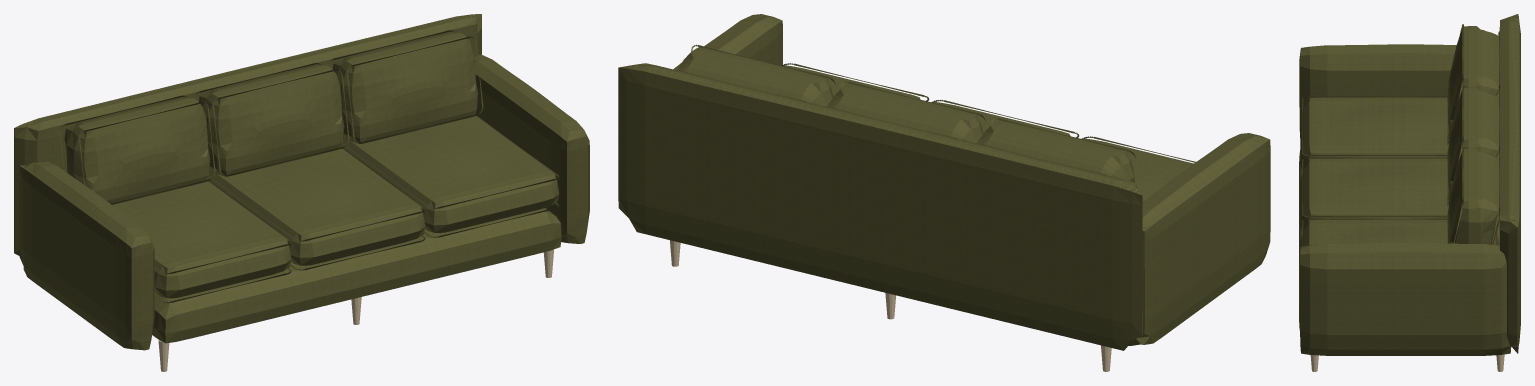
The model's file is ATL-SOF-3-seat.glb.
The picture shows the model from 3 angles, left to right: view 1: azimuth 30°, elevation 25°; view 2: azimuth 150°, elevation 25°; view 3: azimuth 270°, elevation 25°; orthographic projection. The views are drawn at different scales.
Visible parts, largest first — view 1: deck:fabric:eyJwcmVzZXQiOiJoZXJyaW5nYm9uZSIsIndhcnAiOiJvbGl2, arm-pad-l:fabric:eyJwcmVzZXQiOiJoZXJyaW5nYm9uZSIsIndhcnAiOiJ, seat-3:fabric:eyJwcmVzZXQiOiJoZXJyaW5nYm9uZSIsIndhcnAiOiJvbG, seat-2:fabric:eyJwcmVzZXQiOiJoZXJyaW5nYm9uZSIsIndhcnAiOiJvbG, seat-1:fabric:eyJwcmVzZXQiOiJoZXJyaW5nYm9uZSIsIndhcnAiOiJvbG, back-2:fabric:eyJwcmVzZXQiOiJoZXJyaW5nYm9uZSIsIndhcnAiOiJvbG, back-3:fabric:eyJwcmVzZXQiOiJoZXJyaW5nYm9uZSIsIndhcnAiOiJvbG, back-1:fabric:eyJwcmVzZXQiOiJoZXJyaW5nYm9uZSIsIndhcnAiOiJvbG, back-pad:fabric:eyJwcmVzZXQiOiJoZXJyaW5nYm9uZSIsIndhcnAiOiJv, arm-pad-r:fabric:eyJwcmVzZXQiOiJoZXJyaW5nYm9uZSIsIndhcnAiOiJ, back-2:piping:pbr, back-3:piping:pbr (+4 smaller); view 2: back-pad:fabric:eyJwcmVzZXQiOiJoZXJyaW5nYm9uZSIsIndhcnAiOiJv, arm-pad-l:fabric:eyJwcmVzZXQiOiJoZXJyaW5nYm9uZSIsIndhcnAiOiJ, back-1:fabric:eyJwcmVzZXQiOiJoZXJyaW5nYm9uZSIsIndhcnAiOiJvbG, back-2:fabric:eyJwcmVzZXQiOiJoZXJyaW5nYm9uZSIsIndhcnAiOiJvbG, back-3:fabric:eyJwcmVzZXQiOiJoZXJyaW5nYm9uZSIsIndhcnAiOiJvbG, arm-pad-r:fabric:eyJwcmVzZXQiOiJoZXJyaW5nYm9uZSIsIndhcnAiOiJ, seat-1:fabric:eyJwcmVzZXQiOiJoZXJyaW5nYm9uZSIsIndhcnAiOiJvbG, seat-3:fabric:eyJwcmVzZXQiOiJoZXJyaW5nYm9uZSIsIndhcnAiOiJvbG, seat-2:fabric:eyJwcmVzZXQiOiJoZXJyaW5nYm9uZSIsIndhcnAiOiJvbG; view 3: arm-pad-r:fabric:eyJwcmVzZXQiOiJoZXJyaW5nYm9uZSIsIndhcnAiOiJ, seat-1:fabric:eyJwcmVzZXQiOiJoZXJyaW5nYm9uZSIsIndhcnAiOiJvbG, seat-2:fabric:eyJwcmVzZXQiOiJoZXJyaW5nYm9uZSIsIndhcnAiOiJvbG, arm-pad-l:fabric:eyJwcmVzZXQiOiJoZXJyaW5nYm9uZSIsIndhcnAiOiJ, back-pad:fabric:eyJwcmVzZXQiOiJoZXJyaW5nYm9uZSIsIndhcnAiOiJv, back-3:fabric:eyJwcmVzZXQiOiJoZXJyaW5nYm9uZSIsIndhcnAiOiJvbG, seat-3:fabric:eyJwcmVzZXQiOiJoZXJyaW5nYm9uZSIsIndhcnAiOiJvbG, back-1:fabric:eyJwcmVzZXQiOiJoZXJyaW5nYm9uZSIsIndhcnAiOiJvbG, back-2:fabric:eyJwcmVzZXQiOiJoZXJyaW5nYm9uZSIsIndhcnAiOiJvbG, seat-2:piping:pbr, seat-1:piping:pbr, deck:fabric:eyJwcmVzZXQiOiJoZXJyaW5nYm9uZSIsIndhcnAiOiJvbGl2 (+4 smaller).
Part boxes in pixels (x1,y1,x2,y2): deck:fabric:eyJwcmVzZXQiOiJoZXJyaW5nYm9uZSIsIndhcnAiOiJvbGl2: [152, 208, 561, 343]; arm-pad-l:fabric:eyJwcmVzZXQiOiJoZXJyaW5nYm9uZSIsIndhcnAiOiJ: [19, 161, 154, 350]; seat-3:fabric:eyJwcmVzZXQiOiJoZXJyaW5nYm9uZSIsIndhcnAiOiJvbG: [341, 116, 558, 232]; seat-2:fabric:eyJwcmVzZXQiOiJoZXJyaW5nYm9uZSIsIndhcnAiOiJvbG: [208, 148, 425, 265]; seat-1:fabric:eyJwcmVzZXQiOiJoZXJyaW5nYm9uZSIsIndhcnAiOiJvbG: [112, 181, 291, 298]; back-2:fabric:eyJwcmVzZXQiOiJoZXJyaW5nYm9uZSIsIndhcnAiOiJvbG: [199, 65, 344, 176]; back-3:fabric:eyJwcmVzZXQiOiJoZXJyaW5nYm9uZSIsIndhcnAiOiJvbG: [333, 32, 478, 143]; back-1:fabric:eyJwcmVzZXQiOiJoZXJyaW5nYm9uZSIsIndhcnAiOiJvbG: [64, 98, 210, 204]; back-pad:fabric:eyJwcmVzZXQiOiJoZXJyaW5nYm9uZSIsIndhcnAiOiJv: [14, 14, 481, 255]; arm-pad-r:fabric:eyJwcmVzZXQiOiJoZXJyaW5nYm9uZSIsIndhcnAiOiJ: [474, 54, 589, 243]; back-2:piping:pbr: [194, 63, 349, 176]; back-3:piping:pbr: [328, 30, 483, 143]; back-pad:fabric:eyJwcmVzZXQiOiJoZXJyaW5nYm9uZSIsIndhcnAiOiJv: [618, 63, 1142, 350]; arm-pad-l:fabric:eyJwcmVzZXQiOiJoZXJyaW5nYm9uZSIsIndhcnAiOiJ: [1128, 133, 1270, 345]; back-1:fabric:eyJwcmVzZXQiOiJoZXJyaW5nYm9uZSIsIndhcnAiOiJvbG: [977, 120, 1134, 182]; back-2:fabric:eyJwcmVzZXQiOiJoZXJyaW5nYm9uZSIsIndhcnAiOiJvbG: [827, 83, 983, 142]; back-3:fabric:eyJwcmVzZXQiOiJoZXJyaW5nYm9uZSIsIndhcnAiOiJvbG: [677, 47, 833, 106]; arm-pad-r:fabric:eyJwcmVzZXQiOiJoZXJyaW5nYm9uZSIsIndhcnAiOiJ: [673, 14, 782, 69]; seat-1:fabric:eyJwcmVzZXQiOiJoZXJyaW5nYm9uZSIsIndhcnAiOiJvbG: [1083, 138, 1193, 201]; seat-3:fabric:eyJwcmVzZXQiOiJoZXJyaW5nYm9uZSIsIndhcnAiOiJvbG: [783, 65, 920, 99]; seat-2:fabric:eyJwcmVzZXQiOiJoZXJyaW5nYm9uZSIsIndhcnAiOiJvbG: [933, 102, 1070, 136]; arm-pad-r:fabric:eyJwcmVzZXQiOiJoZXJyaW5nYm9uZSIsIndhcnAiOiJ: [1299, 243, 1511, 355]; seat-1:fabric:eyJwcmVzZXQiOiJoZXJyaW5nYm9uZSIsIndhcnAiOiJvbG: [1300, 97, 1448, 170]; seat-2:fabric:eyJwcmVzZXQiOiJoZXJyaW5nYm9uZSIsIndhcnAiOiJvbG: [1300, 159, 1499, 231]; arm-pad-l:fabric:eyJwcmVzZXQiOiJoZXJyaW5nYm9uZSIsIndhcnAiOiJ: [1299, 44, 1456, 137]; back-pad:fabric:eyJwcmVzZXQiOiJoZXJyaW5nYm9uZSIsIndhcnAiOiJv: [1499, 14, 1520, 353]; back-3:fabric:eyJwcmVzZXQiOiJoZXJyaW5nYm9uZSIsIndhcnAiOiJvbG: [1447, 148, 1499, 244]; seat-3:fabric:eyJwcmVzZXQiOiJoZXJyaW5nYm9uZSIsIndhcnAiOiJvbG: [1300, 220, 1499, 248]; back-1:fabric:eyJwcmVzZXQiOiJoZXJyaW5nYm9uZSIsIndhcnAiOiJvbG: [1447, 26, 1499, 138]; back-2:fabric:eyJwcmVzZXQiOiJoZXJyaW5nYm9uZSIsIndhcnAiOiJvbG: [1447, 87, 1499, 199]; seat-2:piping:pbr: [1302, 157, 1447, 217]; seat-1:piping:pbr: [1302, 96, 1447, 156]; deck:fabric:eyJwcmVzZXQiOiJoZXJyaW5nYm9uZSIsIndhcnAiOiJvbGl2: [1299, 150, 1499, 327].
Bounding box in the file's own units: 2.1 × 0.78 × 0.92.
22 materials, 10 textured.
